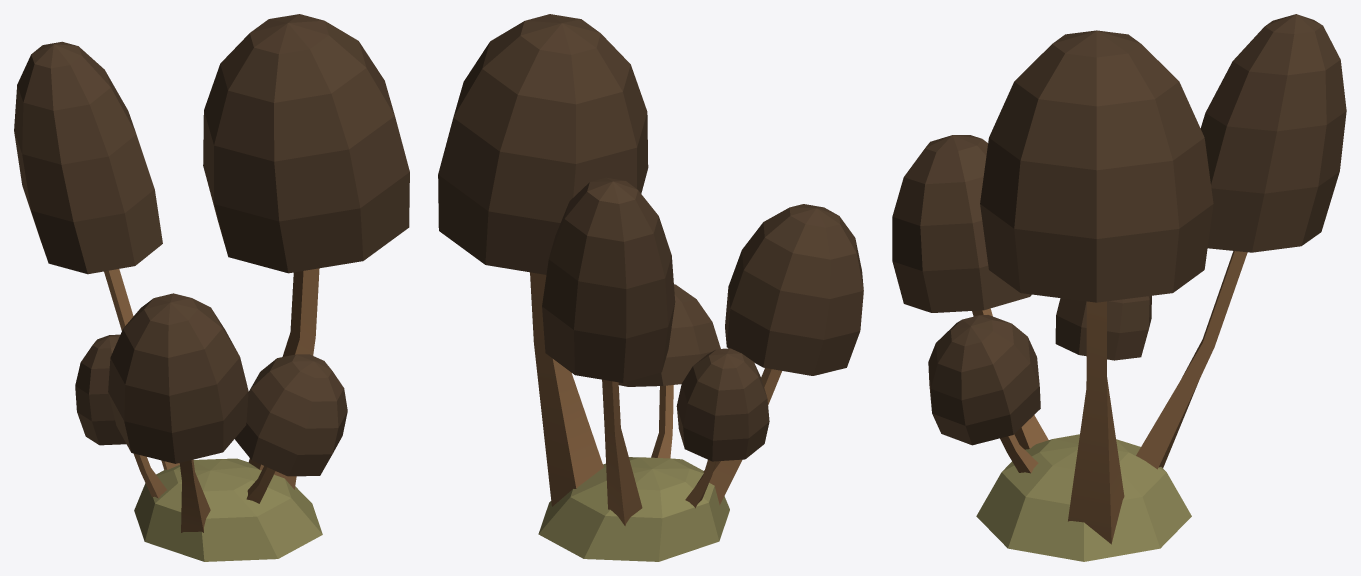
The model's file is Geo_MushroomBlack.fbx.
The picture shows the model from 3 angles, left to right: view 1: azimuth 30°, elevation 25°; view 2: azimuth 150°, elevation 25°; view 3: azimuth 270°, elevation 25°; orthographic projection. The views are drawn at different scales.
Visible parts, largest first — view 1: MushroomTall_Mesh; view 2: MushroomTall_Mesh; view 3: MushroomTall_Mesh.
Part boxes in pixels (x1,y1,x2,y2): MushroomTall_Mesh: (14, 14, 409, 561); MushroomTall_Mesh: (438, 14, 863, 561); MushroomTall_Mesh: (892, 14, 1346, 561).
Bounding box in the file's own units: 38.19 × 51.68 × 40.62.
